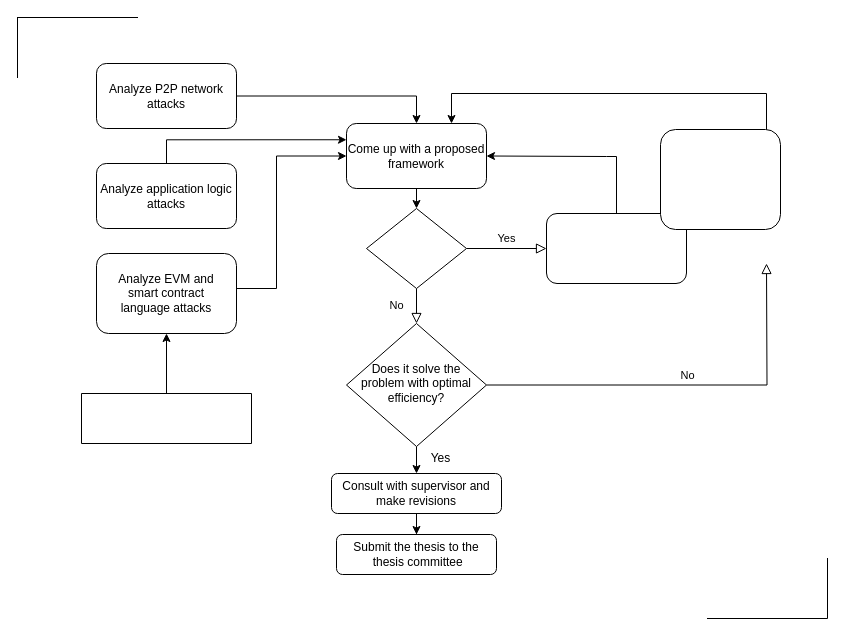
Some shapes in this 845 by 636 pixel diagram are drawn without their labels. Each missing label, with the box of its shape:
Common VM languages are Solidity, Motoko and WASM: (80, 392, 252, 444)
Discard the work and start searching for a unique framework: (546, 212, 686, 284)
Does it exist?: (366, 208, 466, 288)
Work on improving the techniques and efficiency of algorithms and models: (660, 128, 780, 230)
